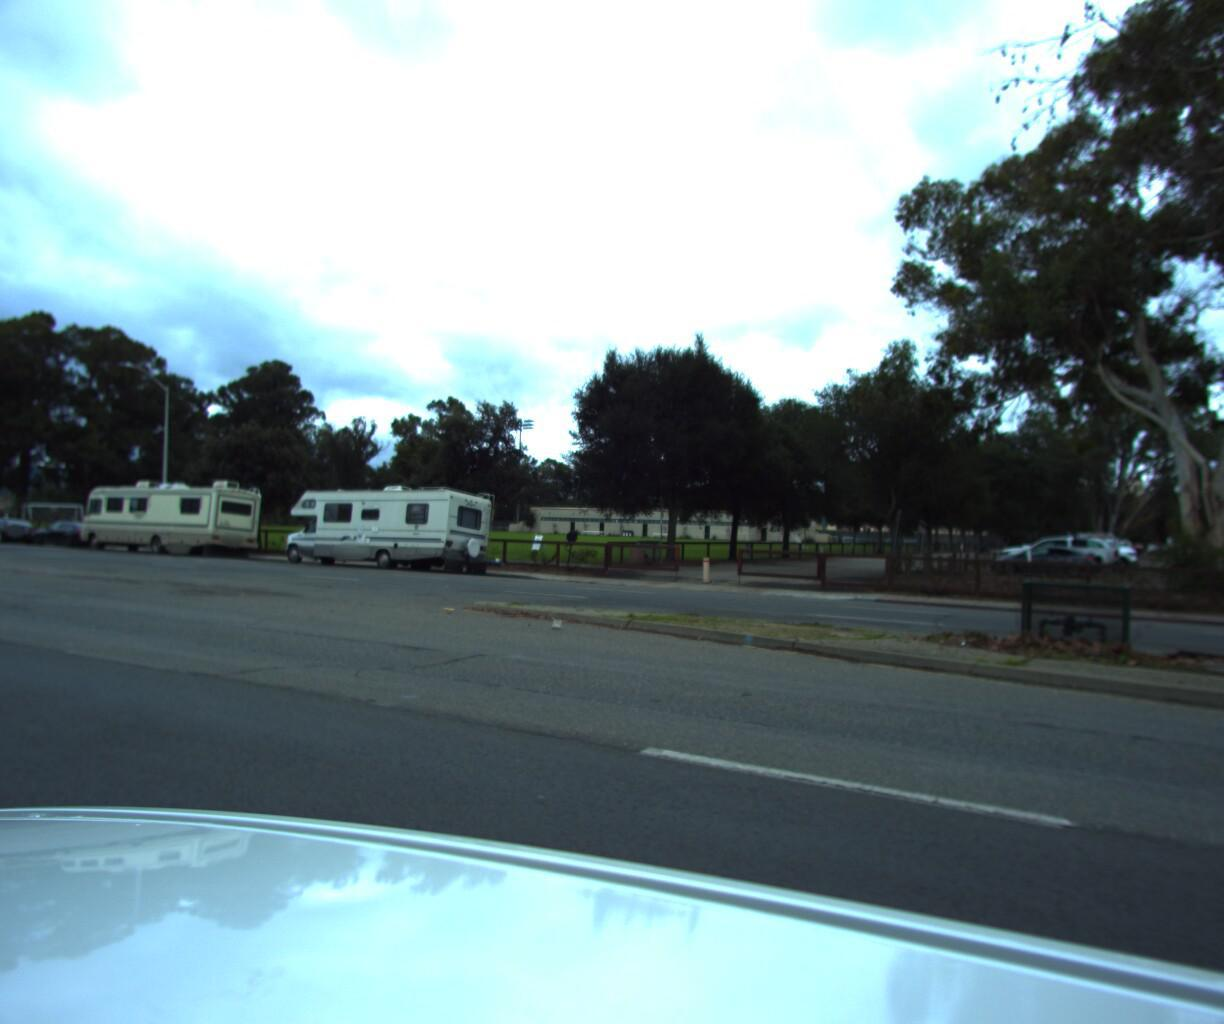car: (30, 514, 111, 548), (0, 513, 42, 543)
other_vehicle: (274, 484, 505, 573), (78, 480, 268, 555)
